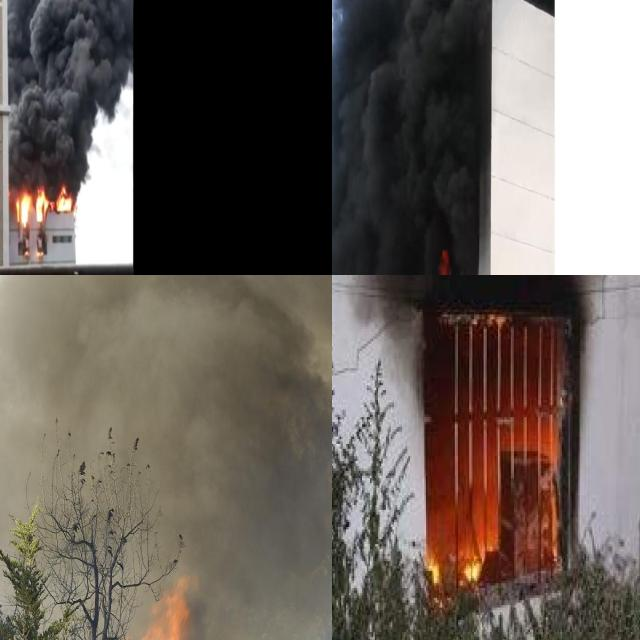fire: (90, 574, 194, 640), (424, 534, 490, 583), (13, 183, 74, 226), (455, 536, 487, 580), (436, 250, 454, 275)
smoke: (0, 275, 332, 640), (332, 0, 489, 275), (4, 0, 133, 187), (349, 275, 595, 324)
